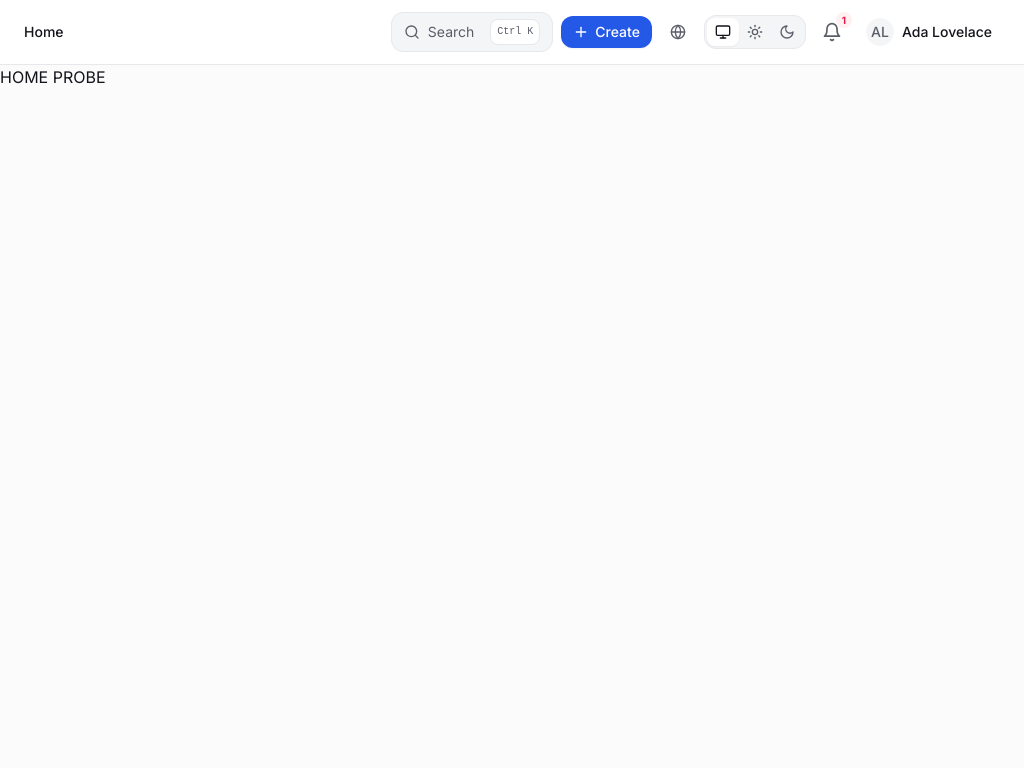
it: MarketingHeader — notification click › an unread row still shows the unread dot
This screenshot has width=1024, height=768.
Click the button named "Notifications" at x=832, y=32, box [814, 14, 850, 50]
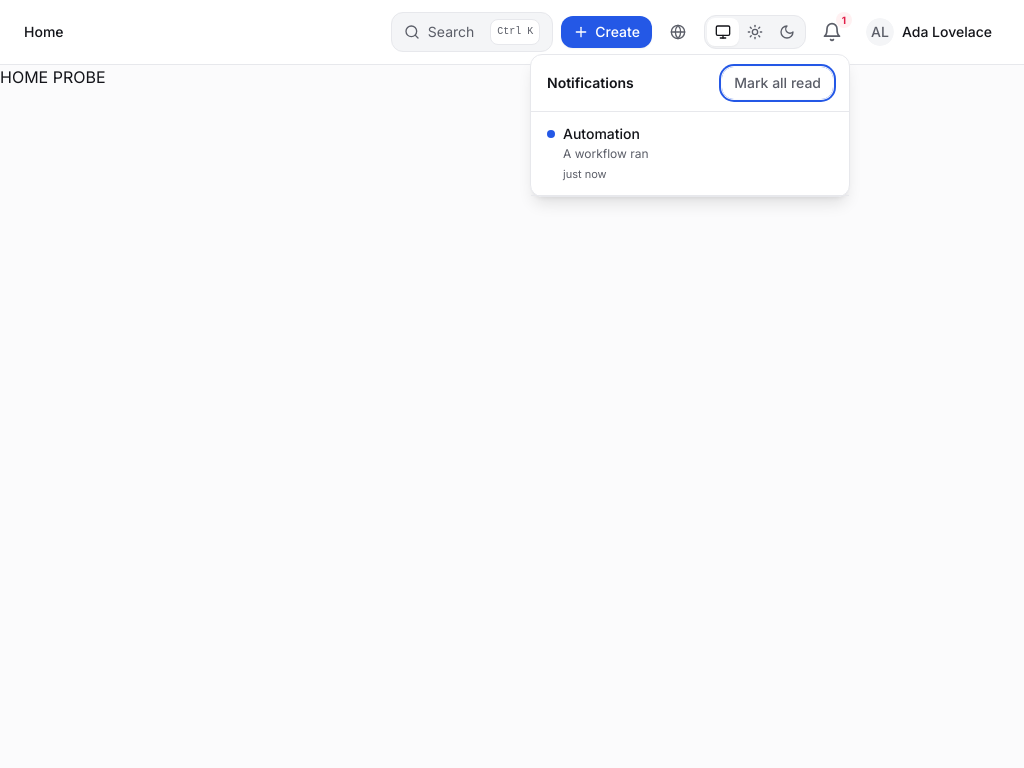
expect the text "Automation" is shown: met, box [563, 125, 640, 142]
expect the element with test id "notification-unread-dot" is shown: met, box [547, 130, 555, 138]
